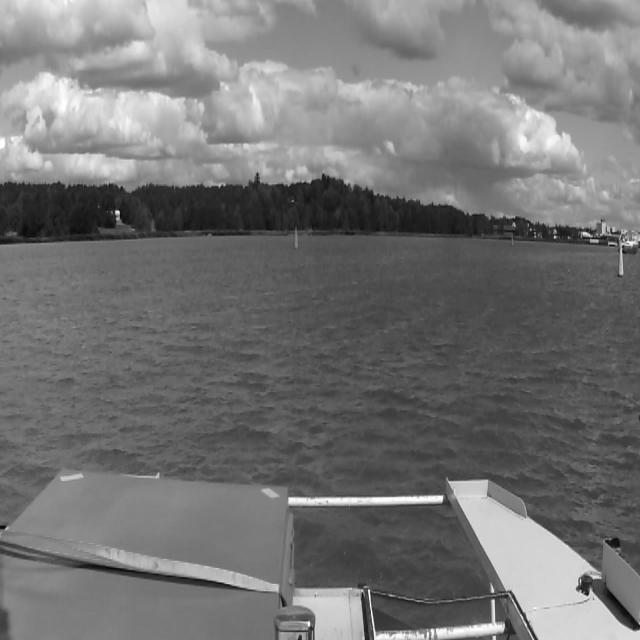buoy: (617, 242, 626, 282), (290, 222, 300, 252)
ship: (628, 231, 640, 254)
